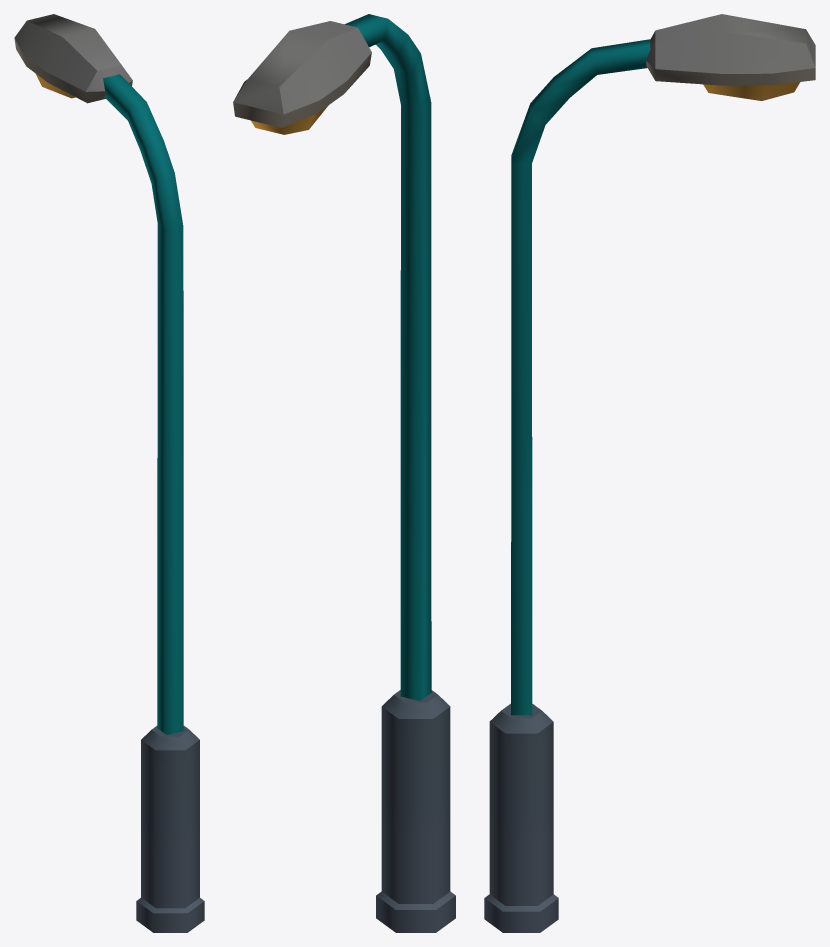
File: Lights_5_C.fbx
3 renders of one model, left to right at view 1: azimuth 30°, elevation 25°; view 2: azimuth 150°, elevation 25°; view 3: azimuth 270°, elevation 25°, orthographic. The views are drawn at different scales.
Parts seen in each view (by area): view 1: Lights_5_C; view 2: Lights_5_C; view 3: Lights_5_C.
Part boxes in pixels (x1,y1,x2,y2): Lights_5_C: (14,14,204,932); Lights_5_C: (233,14,455,932); Lights_5_C: (484,14,815,932).
Size of the model in its own units: 35.36 by 423 by 142.
